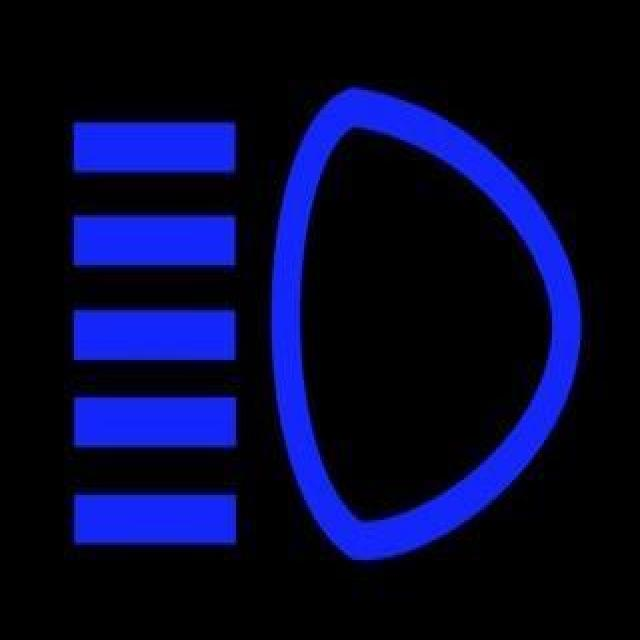kontrolka: (44, 67, 604, 574)
